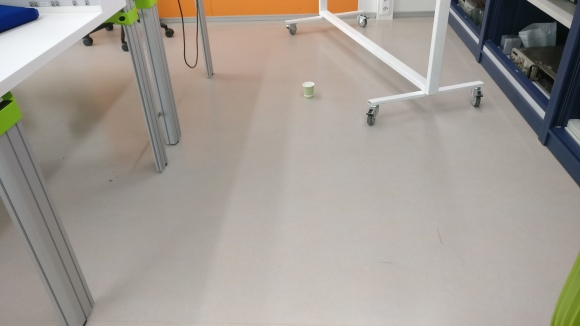cup: (301, 80, 314, 98)
